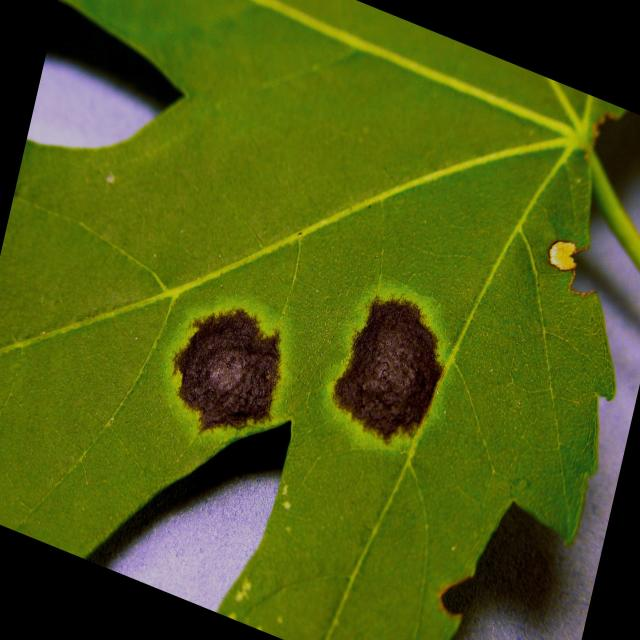Tar_Spot: (1, 0, 635, 638)
